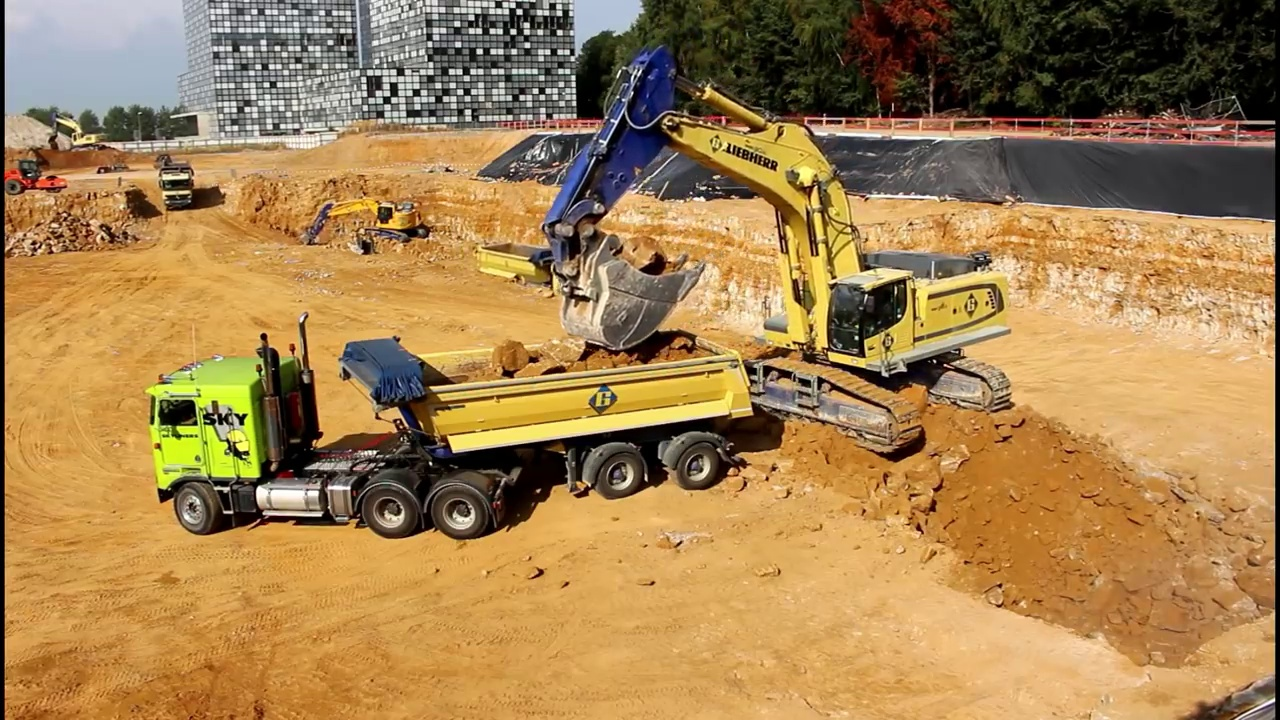compactor: (4, 159, 68, 199)
excavator: (542, 44, 1023, 459), (295, 195, 432, 261), (45, 110, 111, 164)
truck: (143, 306, 761, 544), (471, 238, 602, 306), (152, 155, 199, 213)
